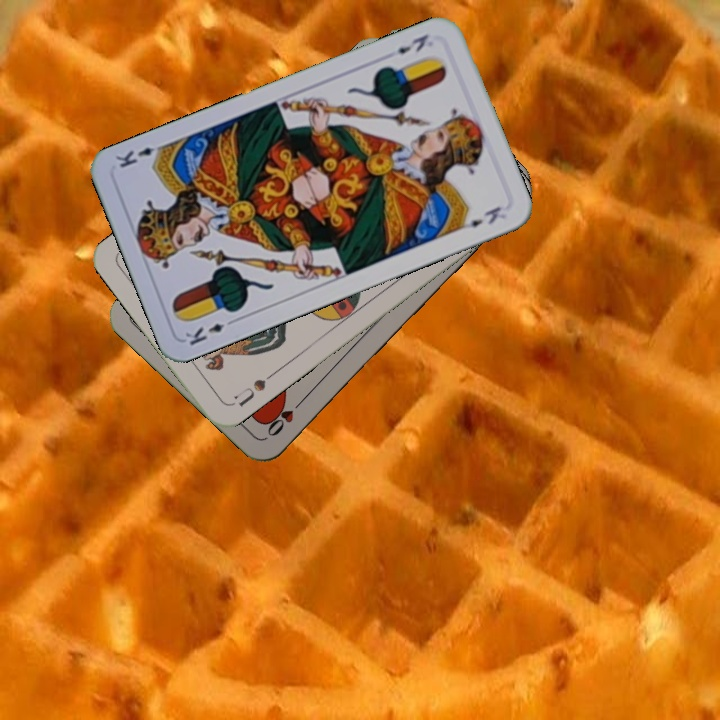EK: (181, 314, 239, 349), (393, 30, 431, 57)
HO: (262, 393, 308, 440)
SU: (230, 368, 278, 410)
